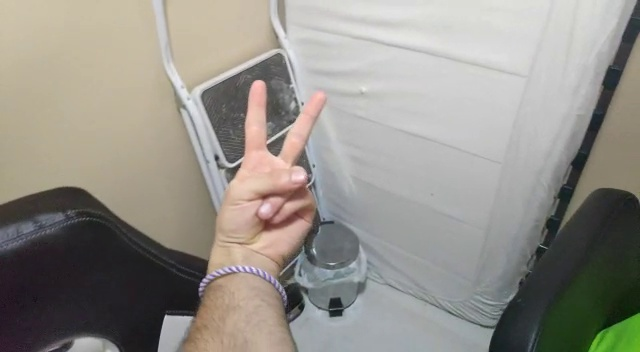Peace: (207, 78, 336, 255)
